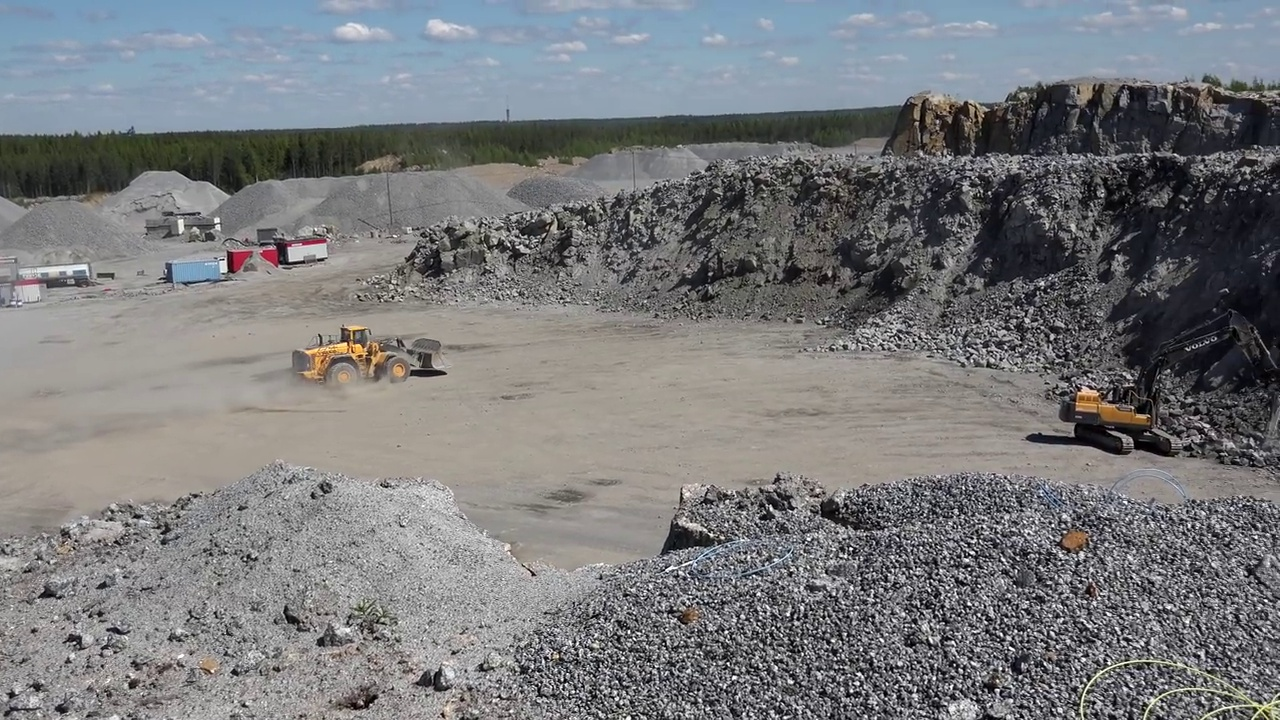excavator: (1059, 311, 1276, 457)
truck: (5, 258, 92, 293)
wheel loader: (288, 318, 454, 389)
